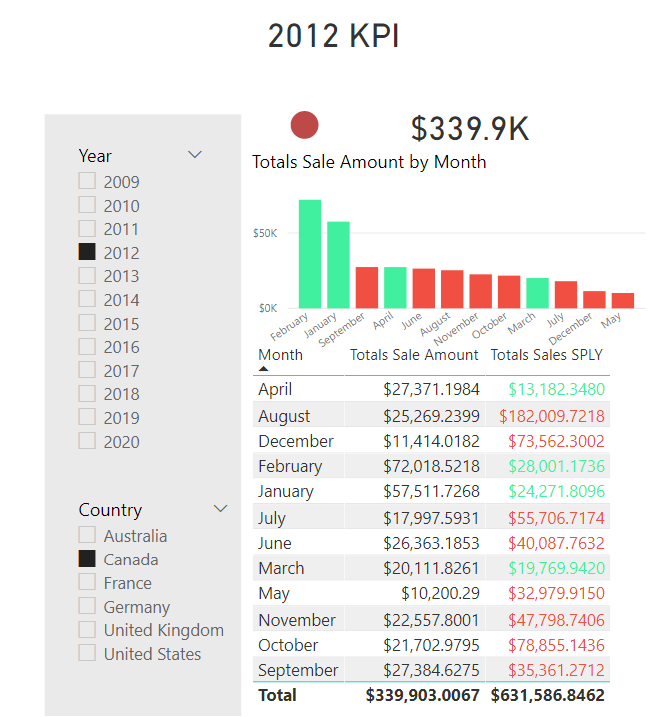

This screenshot's page, from the dashboard's own definition file:
{"tool":"powerbi","page":{"name":"KPI","canvas":[1280,720],"ordinal":2},"visuals":[{"type":"basicShape","box":[338.9,121,198.8,598.3],"z":0},{"type":"card","fields":{"Values":["InternetSales.KPI title"]},"box":[420.4,0,399.5,102.2],"z":1000},{"type":"slicer","fields":{"Values":["Calendar.Year"]},"box":[363.6,150.7,143.9,312.4],"z":2000},{"type":"slicer","fields":{"Values":["Geography.Country"]},"box":[363.6,491.5,168.5,187.5],"z":3000},{"type":"tableEx","fields":{"Values":["Calendar.Month","InternetSales.Totals Sales Amount","InternetSales.Totals Sales SPLY"]},"box":[537.8,344.6,407.1,374.9],"z":4000},{"type":"columnChart","fields":{"Y":["InternetSales.Totals Sales Amount"],"Category":["Calendar.Month"]},"box":[537.8,162.8,388.2,204.5],"z":5000},{"type":"card","fields":{"Values":["InternetSales.Totals Sales Amount"]},"box":[638.1,99.6,227.2,81.4],"z":6000},{"type":"pieChart","fields":{"Y":["InternetSales.KPI green","InternetSales.KPI Red"]},"box":[546.6,118.5,90.9,43.6],"z":7000}]}

Visuals, with their boxes on the page's 1280x720 design canvas (x1, y1, x2, y2). These are canvas units, not pixel positions in the 650x717 screenshot, which may show the page scaled, cropped or inside an application window:
basicShape: 339 121 538 719
card - InternetSales.KPI title: 420 0 820 102
slicer - Calendar.Year: 364 151 508 463
slicer - Geography.Country: 364 492 532 679
tableEx - Calendar.Month x InternetSales.Totals Sales Amount: 538 345 945 720
columnChart - InternetSales.Totals Sales Amount x Calendar.Month: 538 163 926 367
card - InternetSales.Totals Sales Amount: 638 100 865 181
pieChart - InternetSales.KPI green x InternetSales.KPI Red: 547 118 638 162
